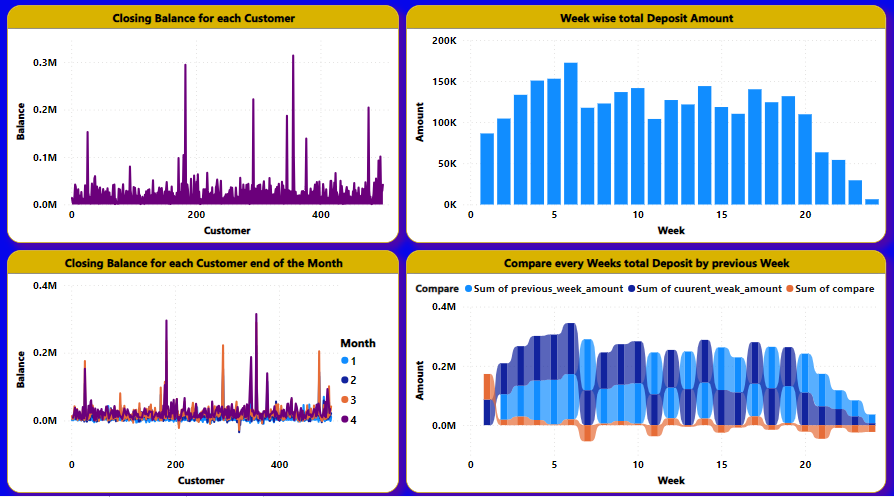

The dashboard page shown, as its layout file describes it:
{"tool":"powerbi","page":{"name":"Page 2","canvas":[1280,720],"ordinal":1},"visuals":[{"type":"areaChart","title":"Closing Balance for each Customer","fields":{"Y":["Sum(Query6.closing_balance)"],"Category":["Query6.customer_id"]},"box":[11.4,10,560,340],"z":1000},{"type":"stackedAreaChart","title":"Closing Balance for each Customer end of the Month","fields":{"Category":["Query7.customer_id"],"Y":["Sum(Query7.closing_balance)"],"Series":["Query7.month"]},"box":[11.4,360,560,347.1],"z":2000},{"type":"clusteredColumnChart","title":"Week wise total Deposit Amount","fields":{"Category":["Query9.week_number"],"Y":["Sum(Query9.sum(t.txn_amount))"]},"box":[581.4,10,685.7,340],"z":3000},{"type":"ribbonChart","title":"Compare every Weeks total Deposit by previous Week","fields":{"Category":["Query10.weak"],"Y":["Sum(Query10.previous_week_amount)","Sum(Query10.cuurent_weak_amount)","Sum(Query10.compare)"]},"box":[581.4,360,685.7,347.1],"z":4000}]}

Visuals, with their boxes in screenshot pixels (x1, y1, x2, y2), scaled from the page's 1280x720 canvas onto the 894x497 screenshot:
"Closing Balance for each Customer" areaChart: {"left": 8, "top": 7, "right": 399, "bottom": 242}
"Closing Balance for each Customer end of the Month" stackedAreaChart: {"left": 8, "top": 248, "right": 399, "bottom": 488}
"Week wise total Deposit Amount" clusteredColumnChart: {"left": 406, "top": 7, "right": 885, "bottom": 242}
"Compare every Weeks total Deposit by previous Week" ribbonChart: {"left": 406, "top": 248, "right": 885, "bottom": 488}
